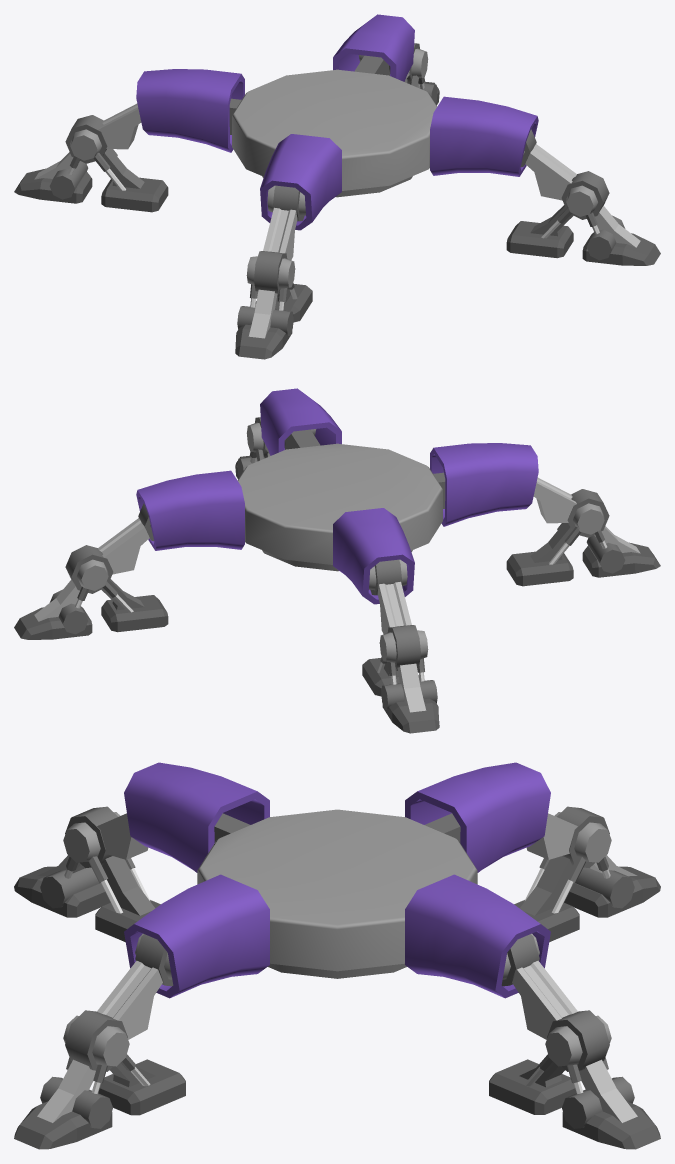
The model's file is turret_013.fbx.
3 renders of one model, top to bottom at view 1: azimuth 30°, elevation 25°; view 2: azimuth 150°, elevation 25°; view 3: azimuth 270°, elevation 25°, orthographic. The views are drawn at different scales.
Parts seen in each view (by area): view 1: turret_013; view 2: turret_013; view 3: turret_013.
Boxes of the visible parts, left/top/right/bottom form: turret_013: left=14, top=14, right=660, bottom=359; turret_013: left=14, top=388, right=660, bottom=733; turret_013: left=14, top=762, right=660, bottom=1149.
Bounding box in the file's own units: 908 × 908 × 269.
